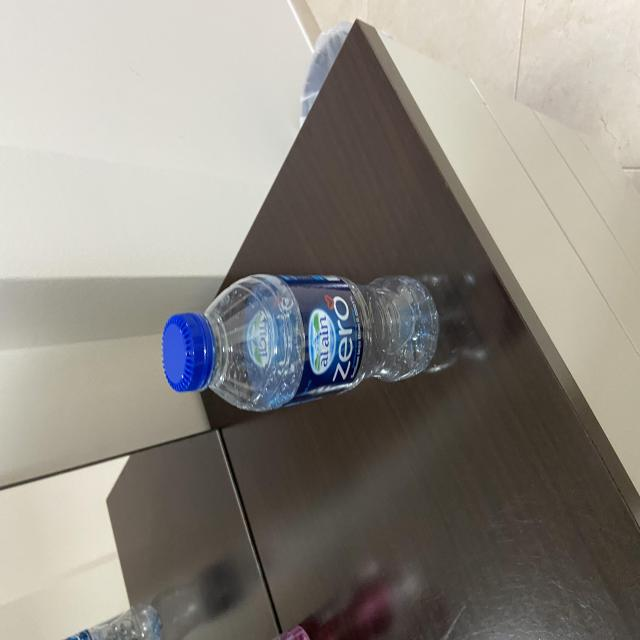plastic: (162, 276, 440, 414)
